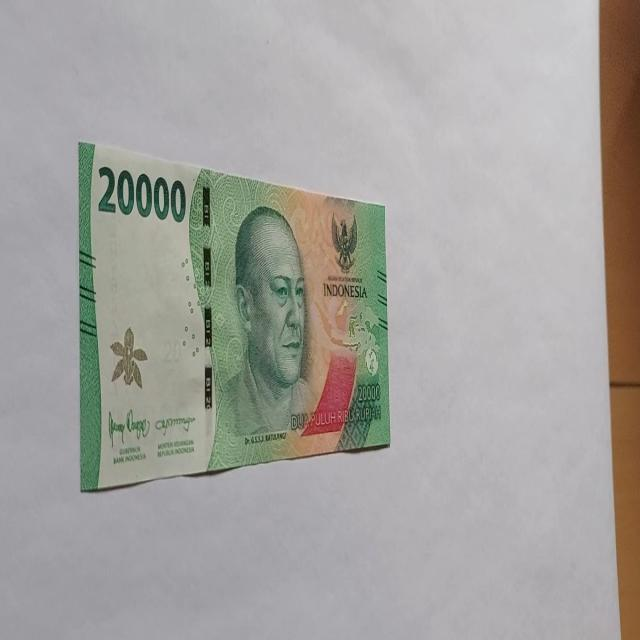dua puluh ribu rupiah: (77, 138, 391, 492)
